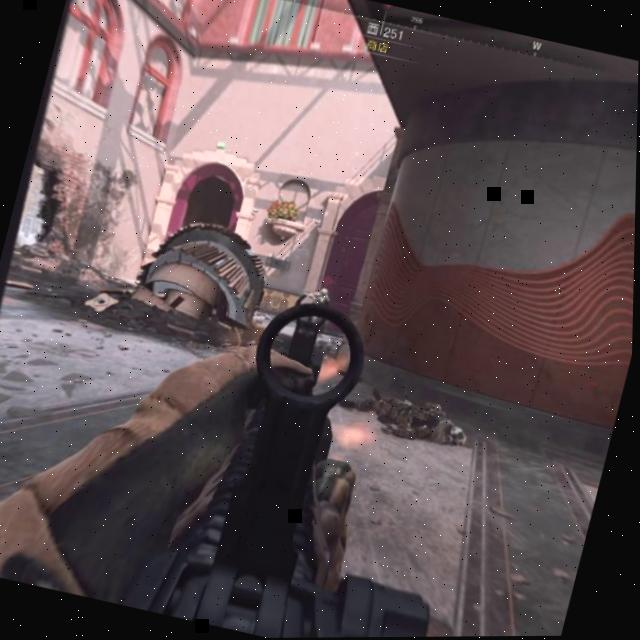MW2_body: (307, 274, 338, 309)
